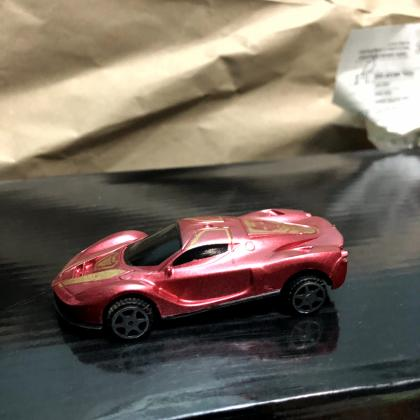Car: (50, 209, 349, 343)
